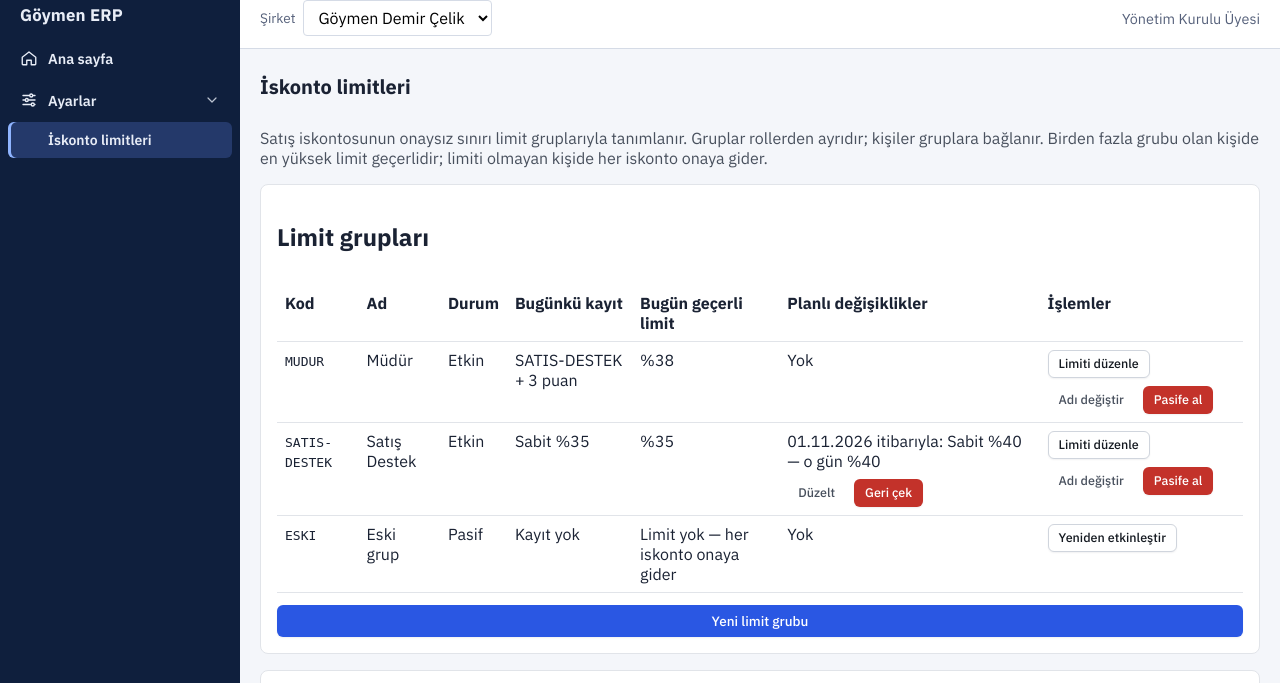
Test: İskonto limitleri — groups › SAT-D84: corrects a scheduled record in place of it and withdraws one, naming a record already in force
This screenshot has width=1280, height=683.
Expected: the table named "Limit grupları ve limitleri" is shown, left=277, top=285, right=1243, bottom=593
Click the button "Düzelt": x=817, y=493 left=787, top=479, right=846, bottom=507
(page scrolled)
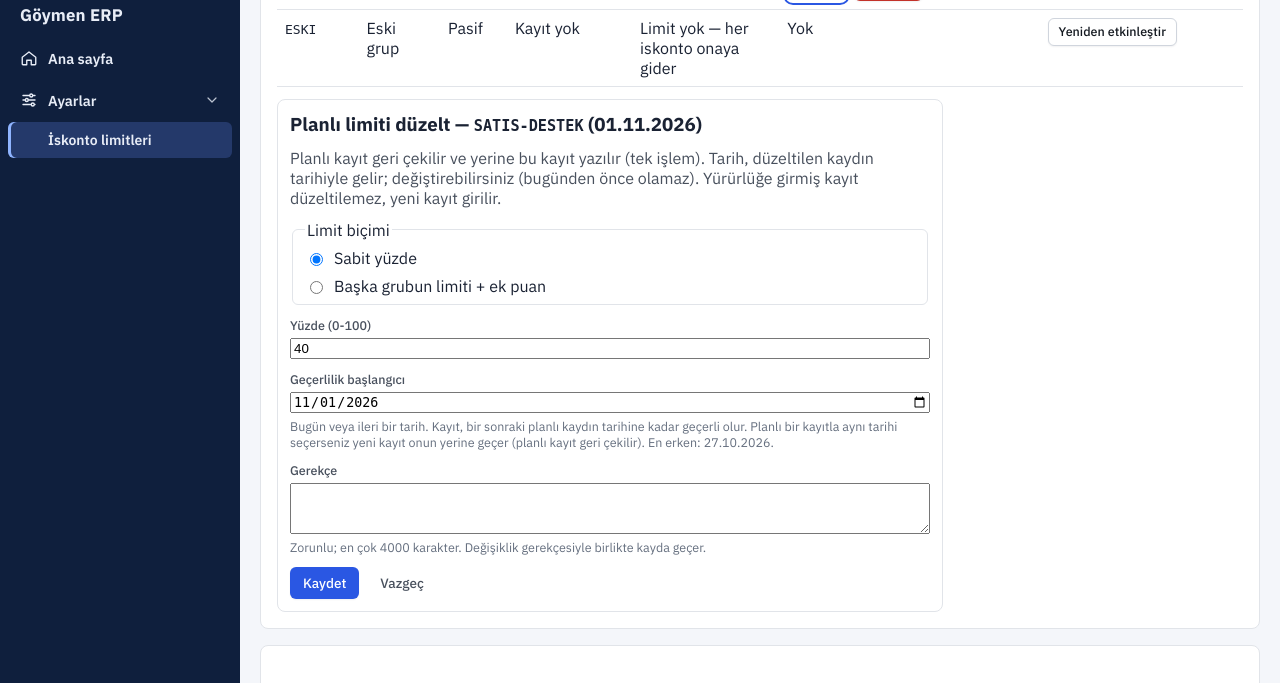
Result: the date field labelled "Geçerlilik başlangıcı" holds "2026-11-01" at left=290, top=392, right=930, bottom=413
Result: the field labelled "Yüzde (0-100)" holds "40"
Replace the text in the field labelled "Yüzde (0-100)" with "42": x=610, y=348 left=290, top=338, right=930, bottom=359
In the text box labelled "Gerekçe": x=610, y=509 left=290, top=483, right=930, bottom=534, type "Yanlış girildi"
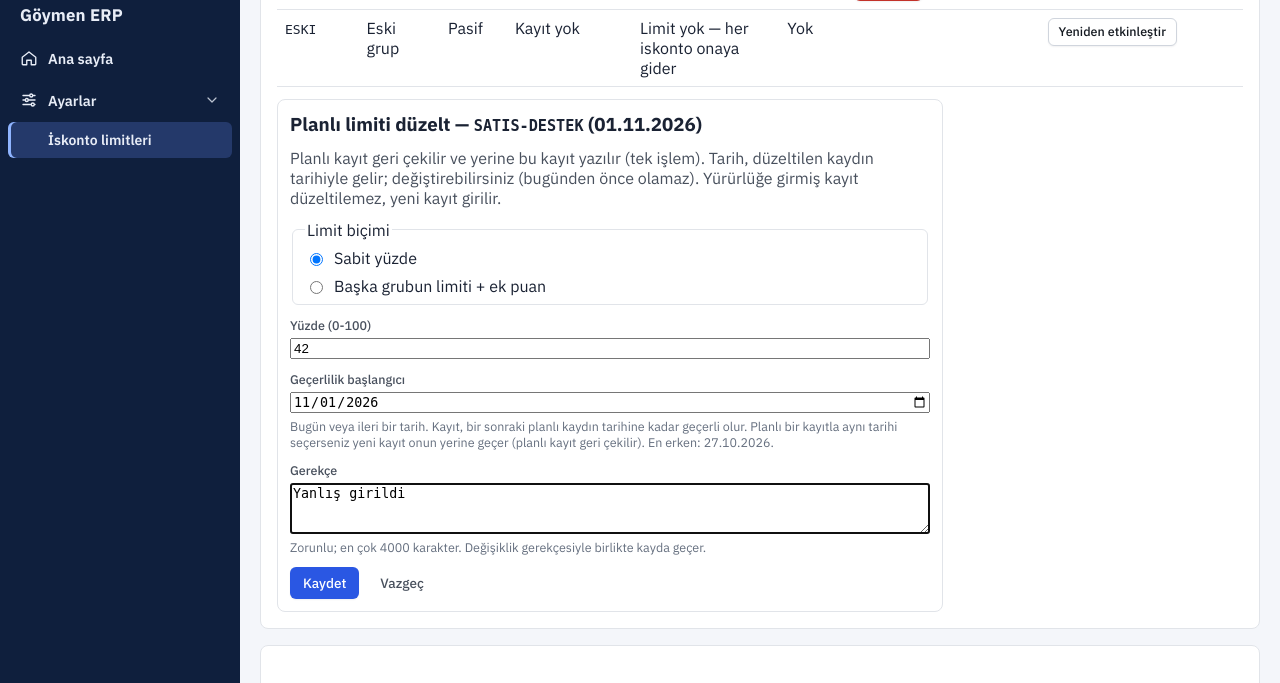
Click the button "Kaydet": x=325, y=583 left=290, top=567, right=359, bottom=599
(page scrolled)
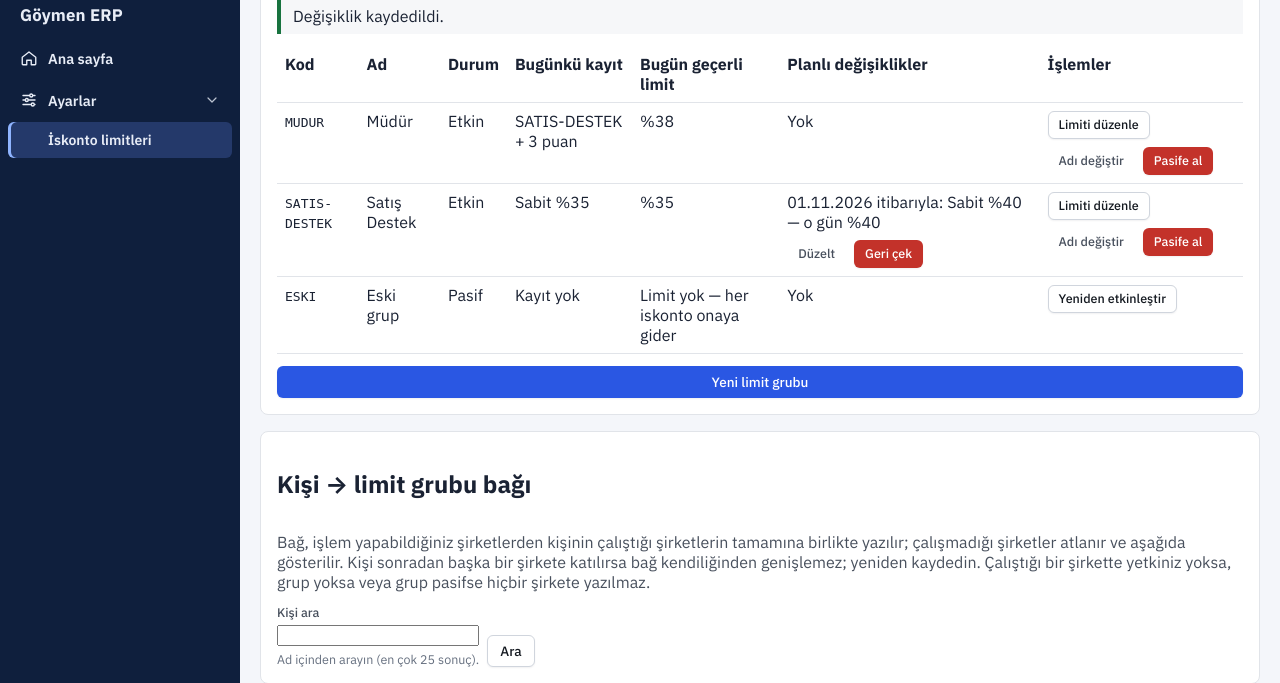
Result: the message reads "Değişiklik kaydedildi." at left=293, top=6, right=444, bottom=26
Click the button "Geri çek": x=889, y=254 left=854, top=240, right=923, bottom=268
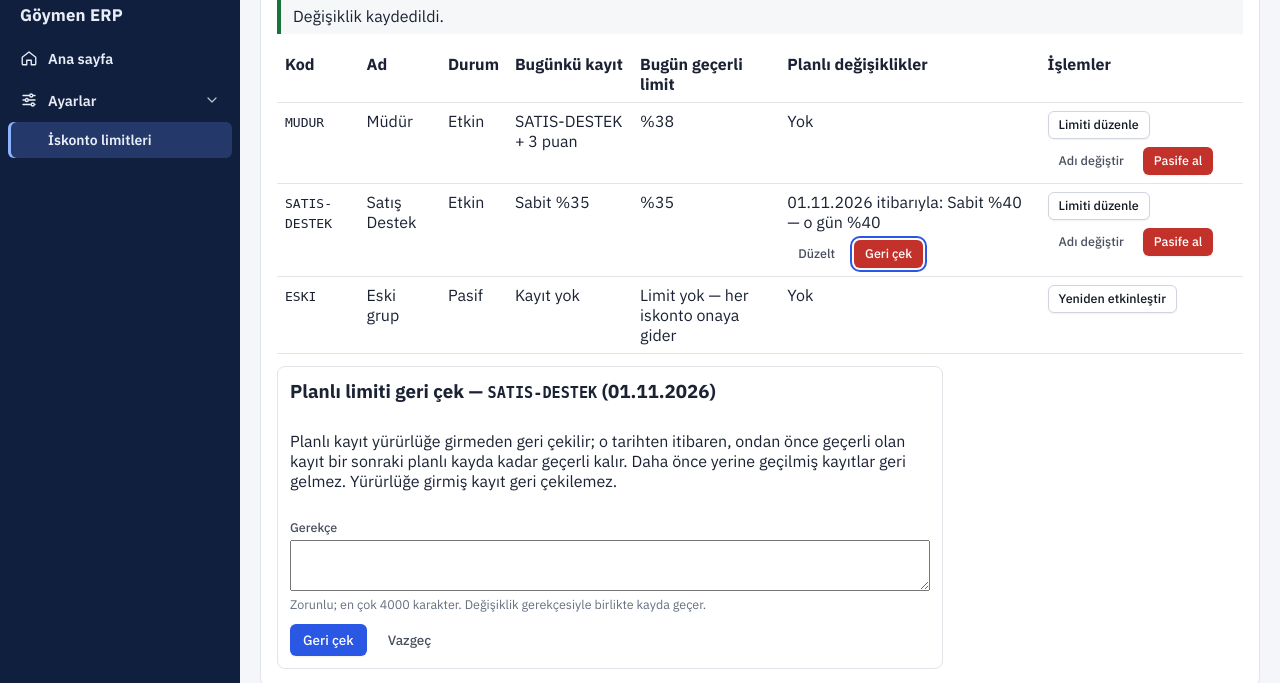
In the text box labelled "Gerekçe": x=610, y=565 left=290, top=540, right=930, bottom=591, type "Vazgeçildi"
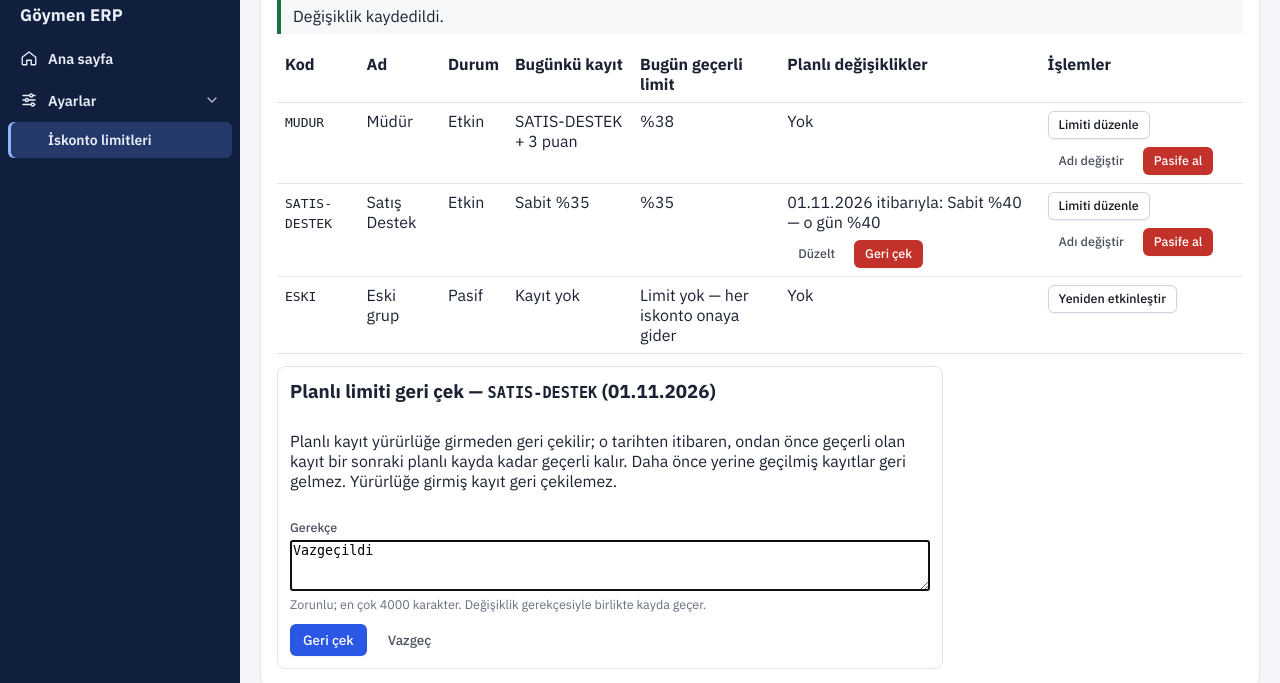
Click the button "Geri çek" below "Planlı limiti geri çek": x=328, y=640 left=290, top=624, right=367, bottom=656
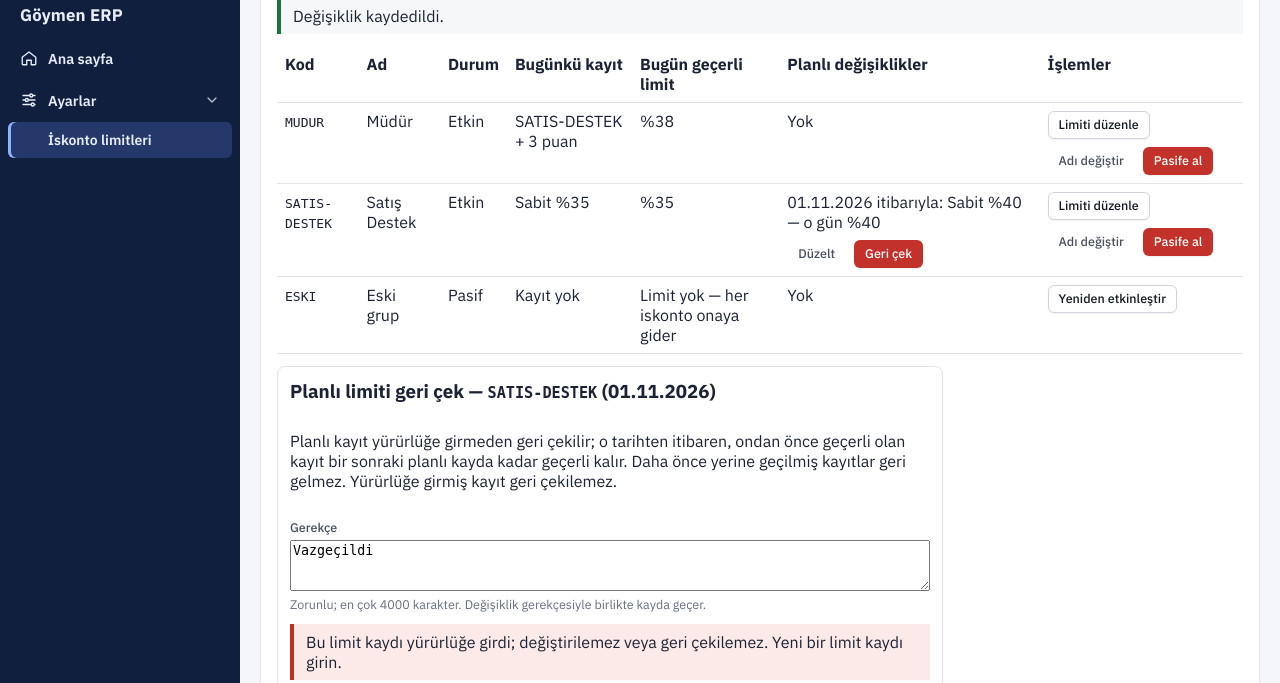
Result: the 2nd message shows "yürürlüğe girdi" at left=306, top=632, right=903, bottom=672
